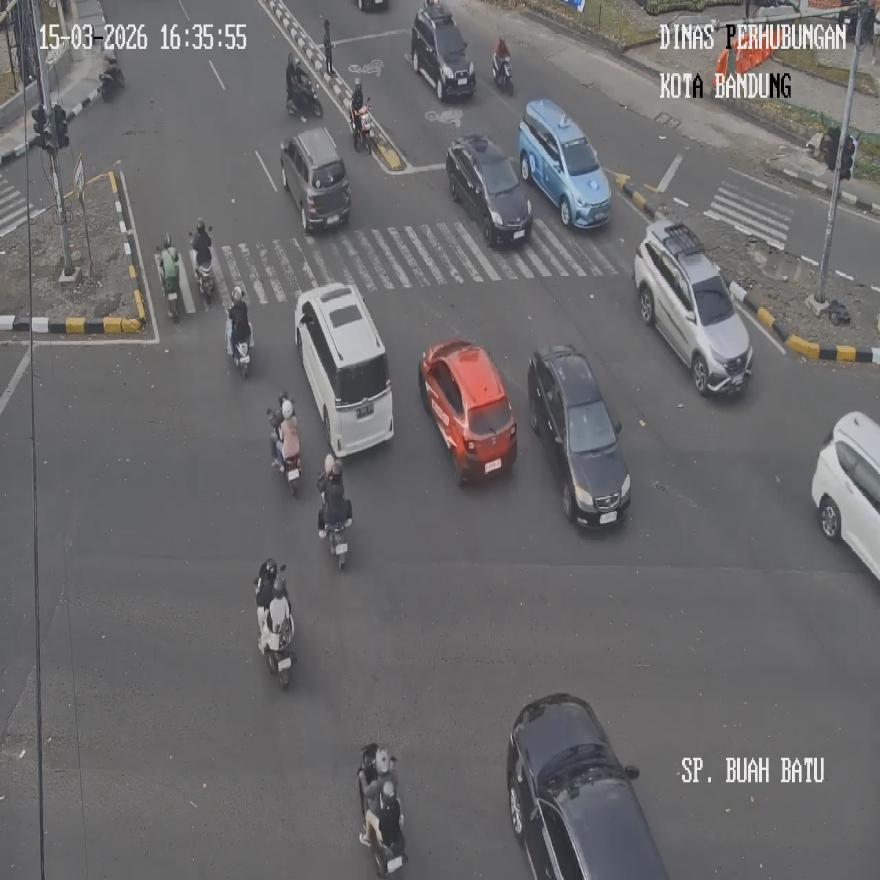Mobil: (506, 693, 670, 879), (632, 220, 754, 396), (526, 343, 630, 527), (295, 281, 394, 457), (418, 337, 517, 484), (517, 98, 611, 228), (810, 410, 880, 580), (446, 132, 532, 246), (282, 127, 351, 232), (410, 0, 476, 99)
Motor: (357, 743, 406, 878), (254, 558, 294, 690), (317, 458, 351, 568), (269, 408, 301, 496), (190, 229, 215, 309), (154, 244, 179, 322), (285, 72, 322, 120), (225, 310, 251, 376), (351, 95, 375, 154), (99, 58, 123, 102), (493, 53, 513, 94), (323, 20, 335, 75)
